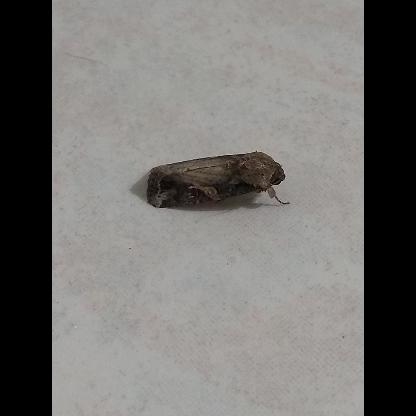Fall Armyworm Moth: (144, 149, 292, 209)
